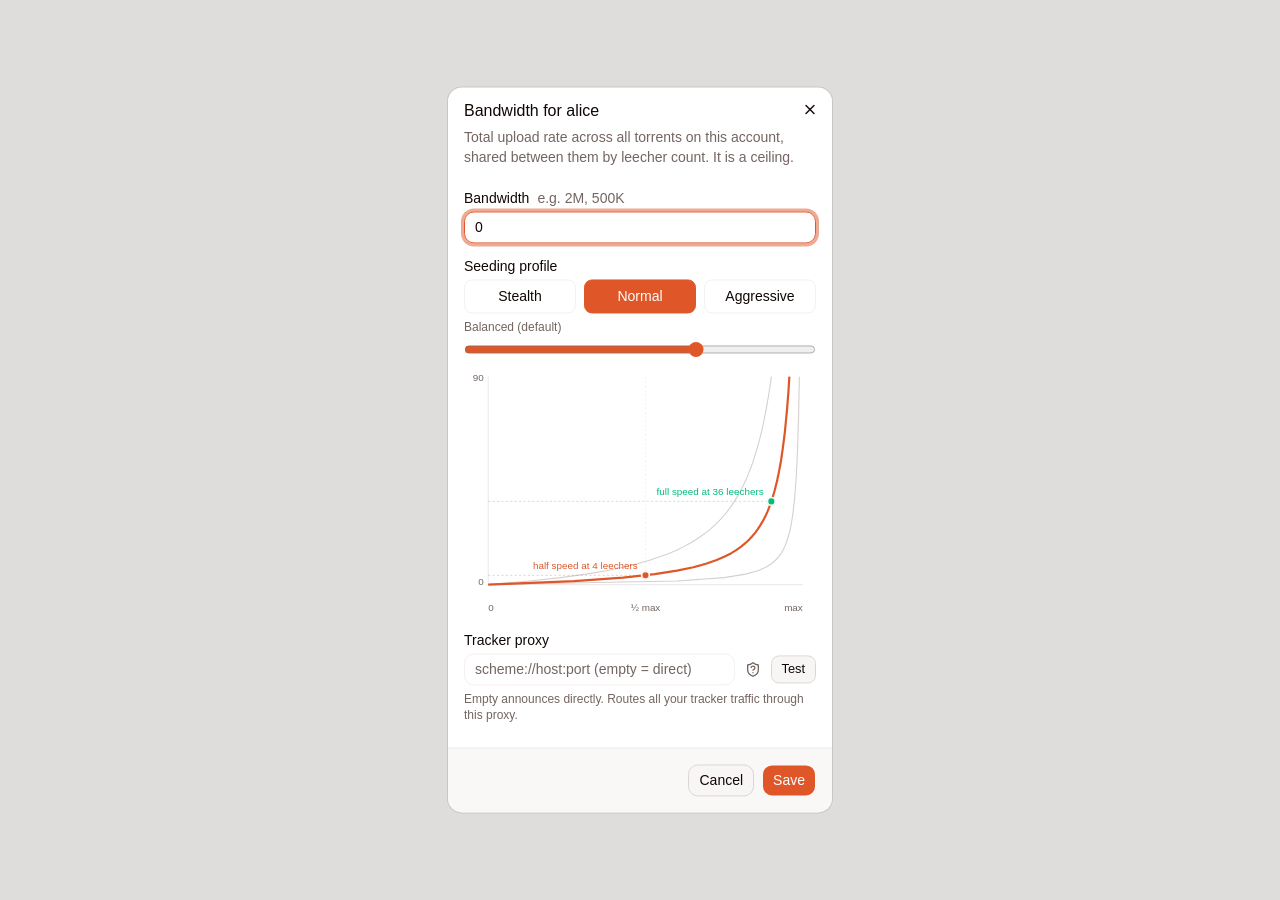
it: BandwidthDialog seeding profile slider › dragging the slider to its right edge selects Aggressive, not Stealth
The width and height of the screenshot is (1280, 900).
Set the slider named "Seeding aggressiveness" to "10" at (808, 350), box [464, 342, 816, 358]
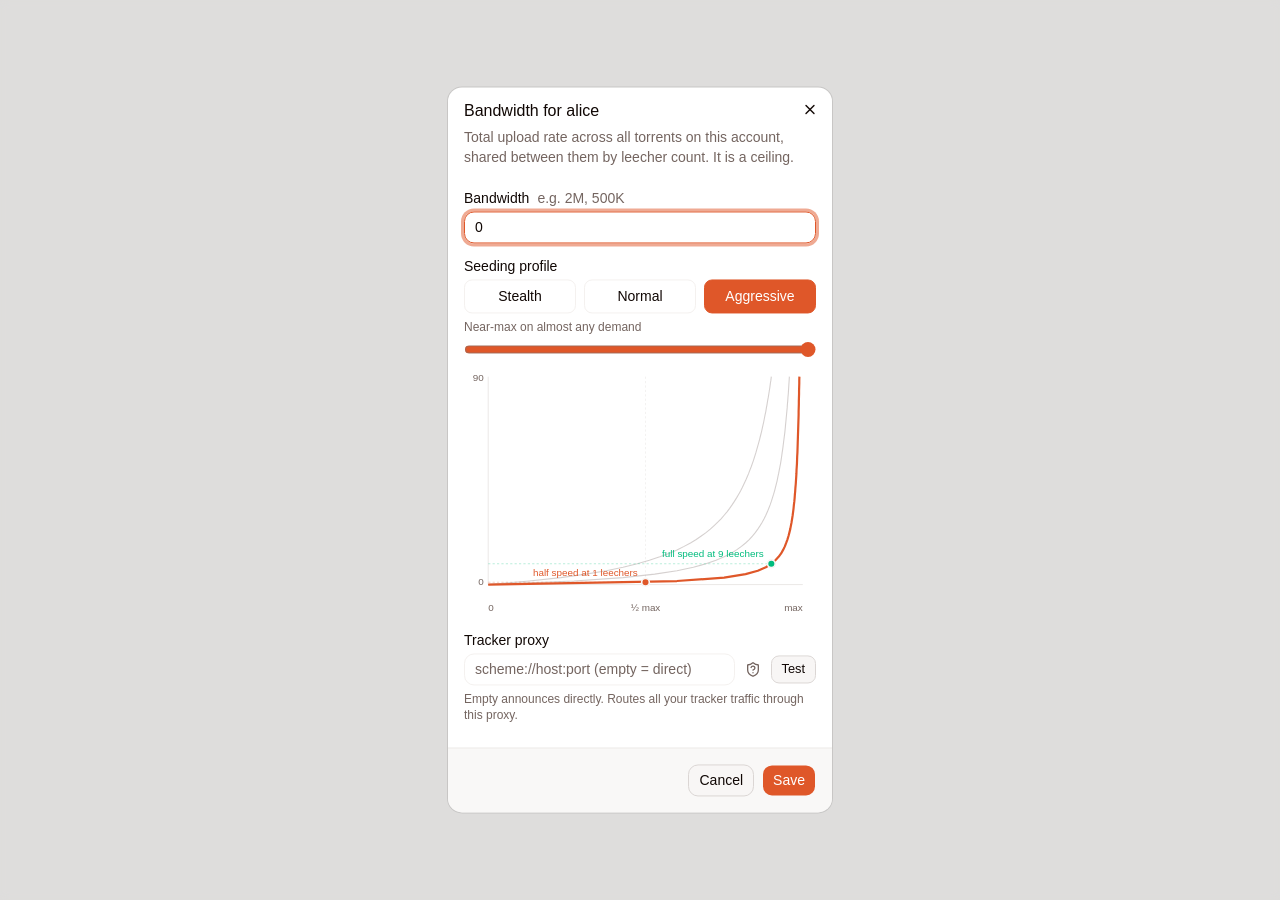
Expected: the text "Near-max on almost any demand" is shown, [464, 320, 641, 334]
